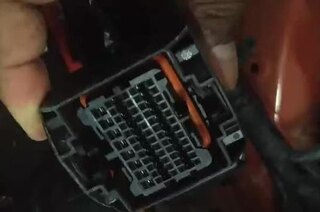connector: (38, 24, 246, 212)
